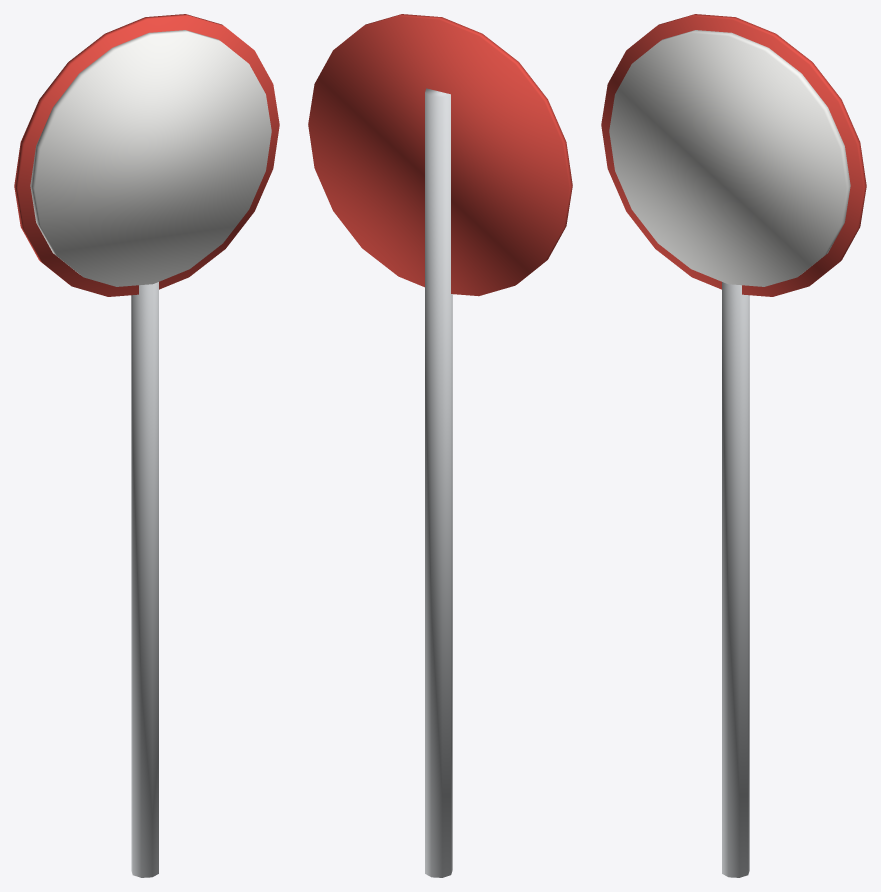
File: sign_speed.glb
3 views of the same model, side by side, from view 1: azimuth 30°, elevation 25°; view 2: azimuth 150°, elevation 25°; view 3: azimuth 330°, elevation 25° (orthographic).
Parts seen in each view (by area): view 1: Sign; view 2: Sign; view 3: Sign.
Boxes of the visible parts, box(x1,y1,x2,y2) form: Sign: box(14, 14, 279, 877); Sign: box(308, 14, 572, 877); Sign: box(601, 14, 866, 877).
Bounding box in the file's own units: 0.84 × 2.62 × 0.085.
